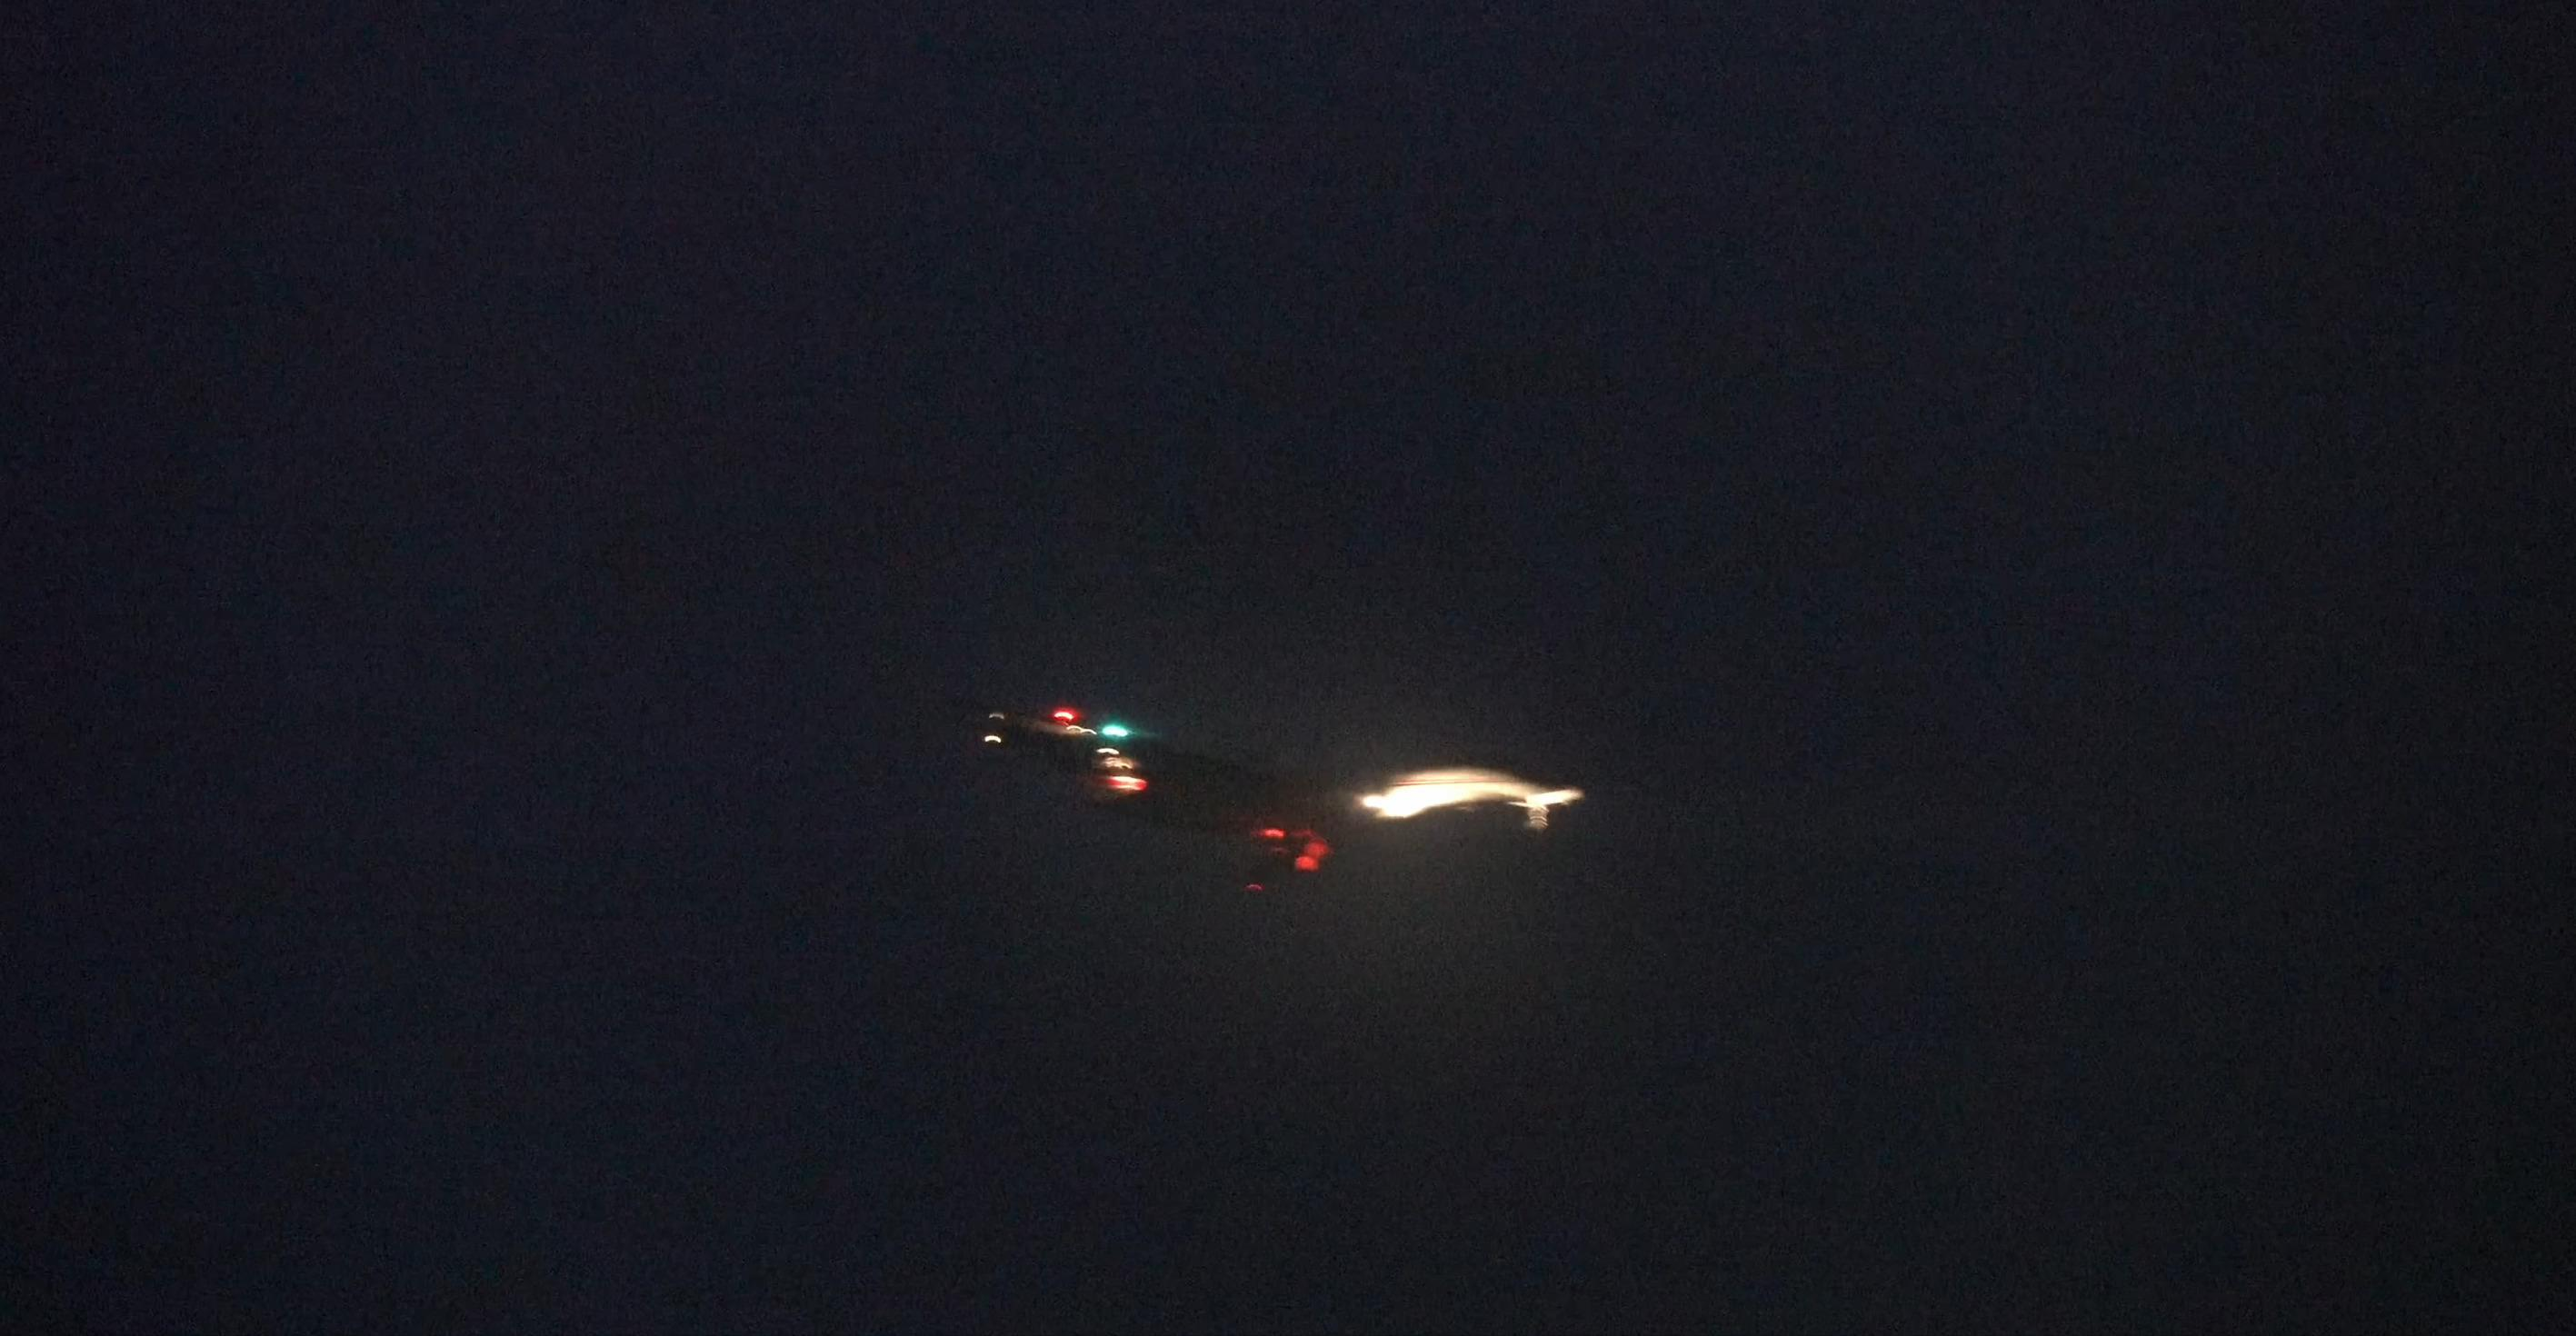Plane: (980, 671, 1581, 932)
